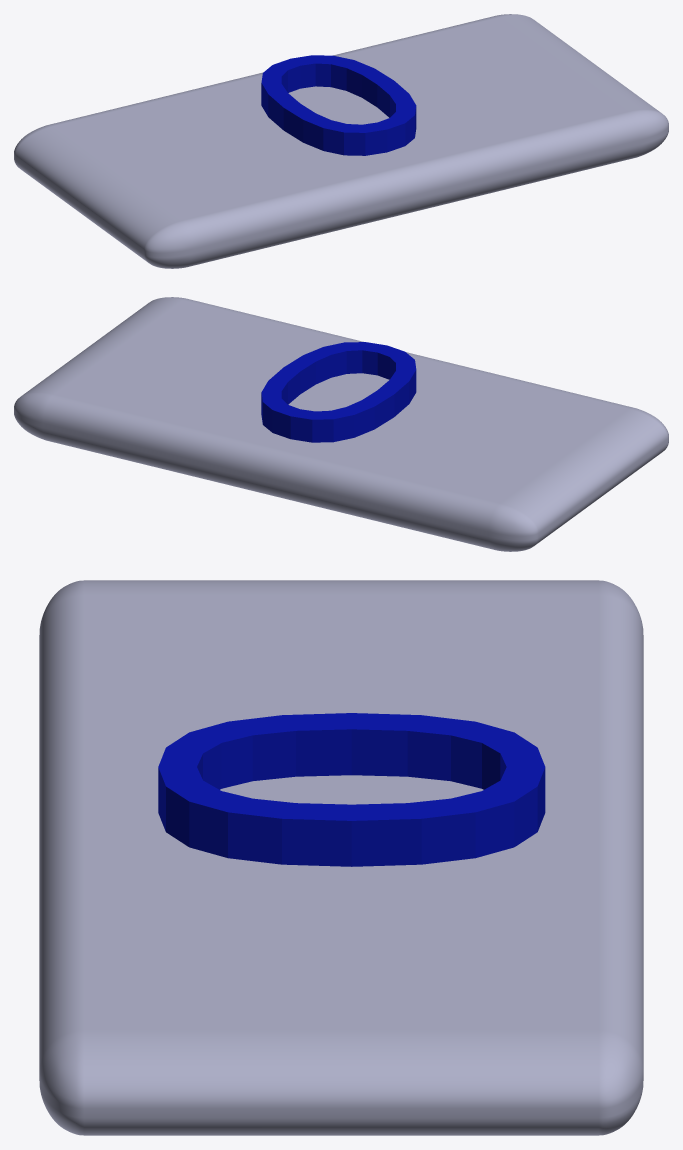
The model's file is button0.glb.
3 views of the same model, one above another, from view 1: azimuth 30°, elevation 25°; view 2: azimuth 150°, elevation 25°; view 3: azimuth 270°, elevation 25° (orthographic). The views are drawn at different scales.
Parts seen in each view (by area): view 1: Box, 3D Text - 0; view 2: Box, 3D Text - 0; view 3: Box, 3D Text - 0.
Boxes of the visible parts, box(x1,y1,x2,y2) form: Box: box(14, 14, 668, 268); 3D Text - 0: box(261, 55, 416, 155); Box: box(14, 297, 668, 551); 3D Text - 0: box(261, 342, 416, 442); Box: box(39, 580, 643, 1135); 3D Text - 0: box(158, 713, 545, 866).
Bounding box in the file's own units: 0.2 × 0.0249 × 0.1.
